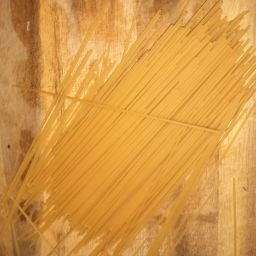Penne pasta: (70, 1, 256, 256), (8, 76, 181, 256), (12, 83, 203, 243), (29, 84, 197, 185)
